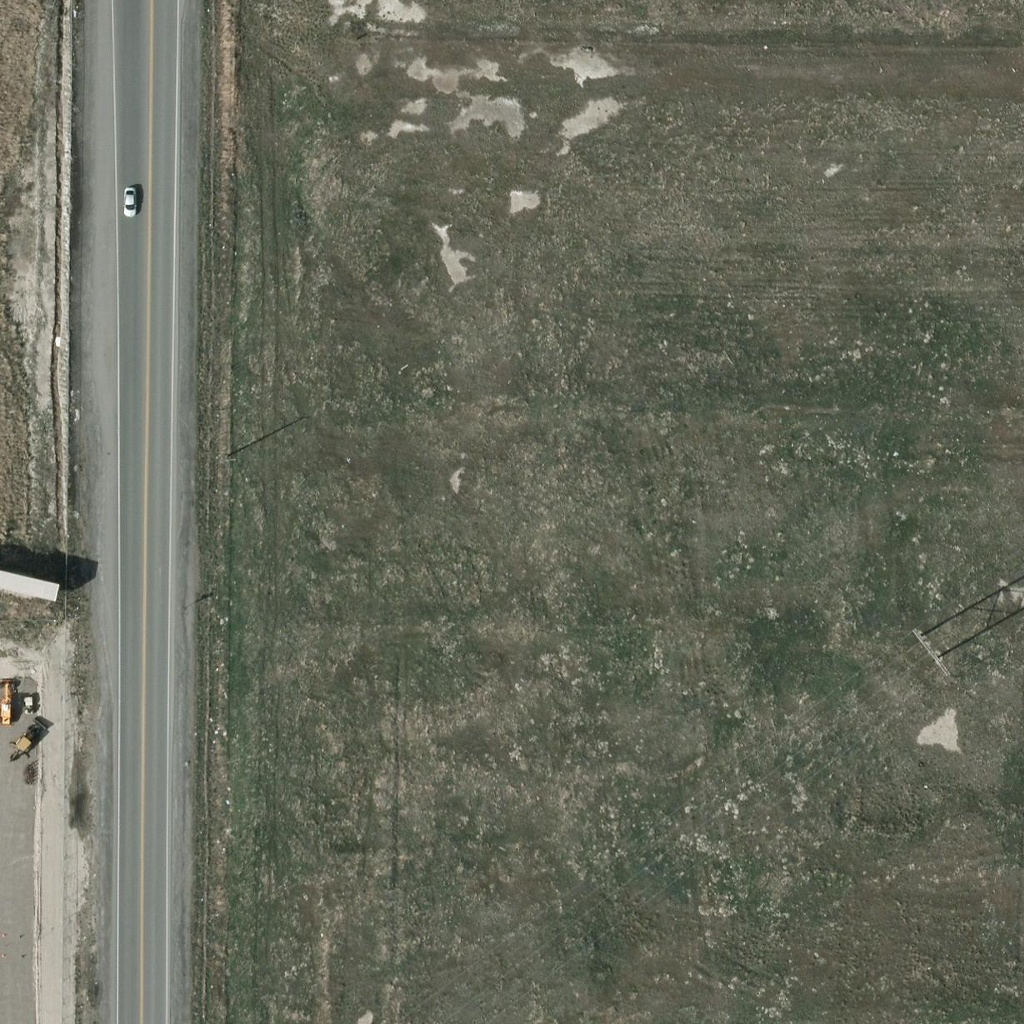car: (122, 184, 138, 218)
